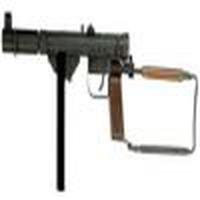gun: (1, 9, 200, 170)
